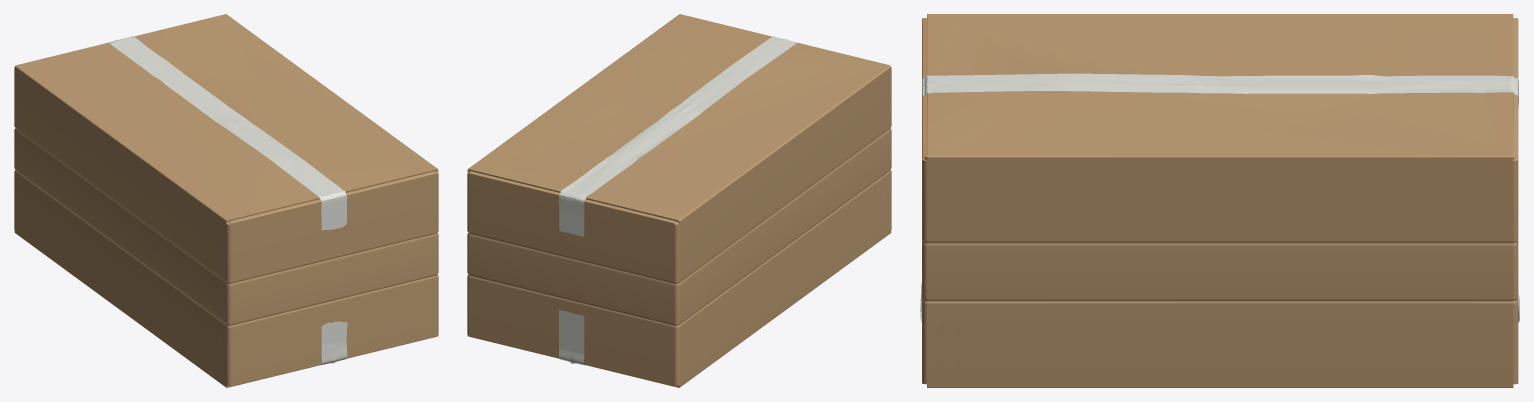
File: box_multiDepth_white_b06.glb
3 views of the same model, side by side, from view 1: azimuth 30°, elevation 25°; view 2: azimuth 150°, elevation 25°; view 3: azimuth 270°, elevation 25° (orthographic). The views are drawn at different scales.
Size of the model in its own units: 0.2023 by 0.1551 by 0.357.
